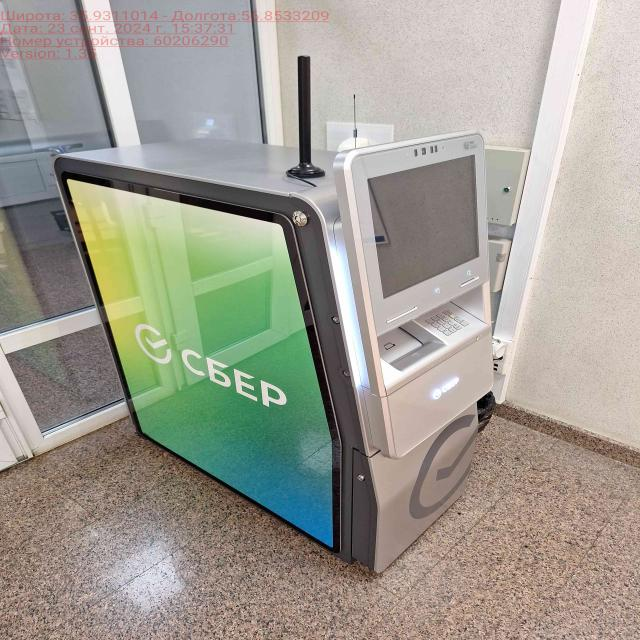bank: (50, 128, 499, 574)
